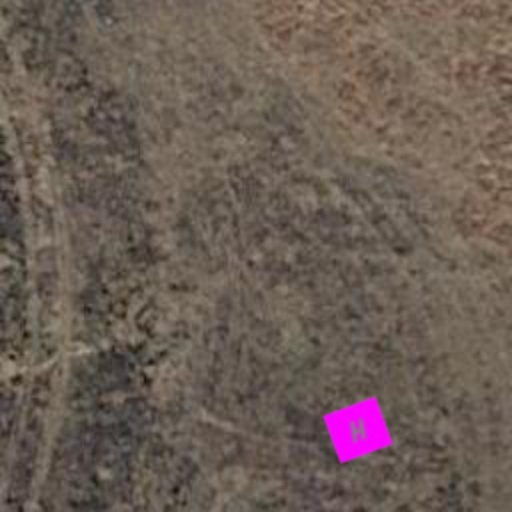rectangle: (322, 394, 394, 466)
